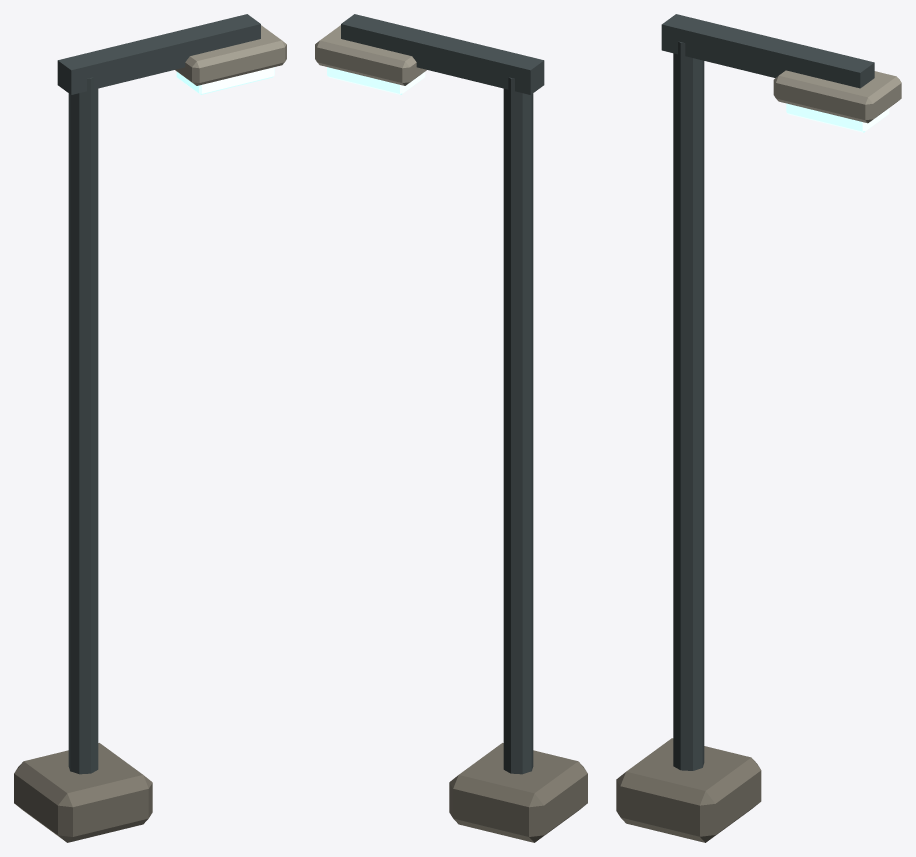
File: fh_yard_lamp.glb
3 renders of one model, left to right at view 1: azimuth 30°, elevation 25°; view 2: azimuth 150°, elevation 25°; view 3: azimuth 330°, elevation 25°, orthographic. The views are drawn at different scales.
Parts seen in each view (by area): view 1: fh_yard_lamp; view 2: fh_yard_lamp; view 3: fh_yard_lamp.
Boxes of the visible parts, bbox=[...] form: fh_yard_lamp: bbox=[14, 14, 286, 842]; fh_yard_lamp: bbox=[315, 14, 587, 842]; fh_yard_lamp: bbox=[616, 14, 901, 842].
Bounding box in the file's own units: 0.5 × 1.52 × 0.2.
